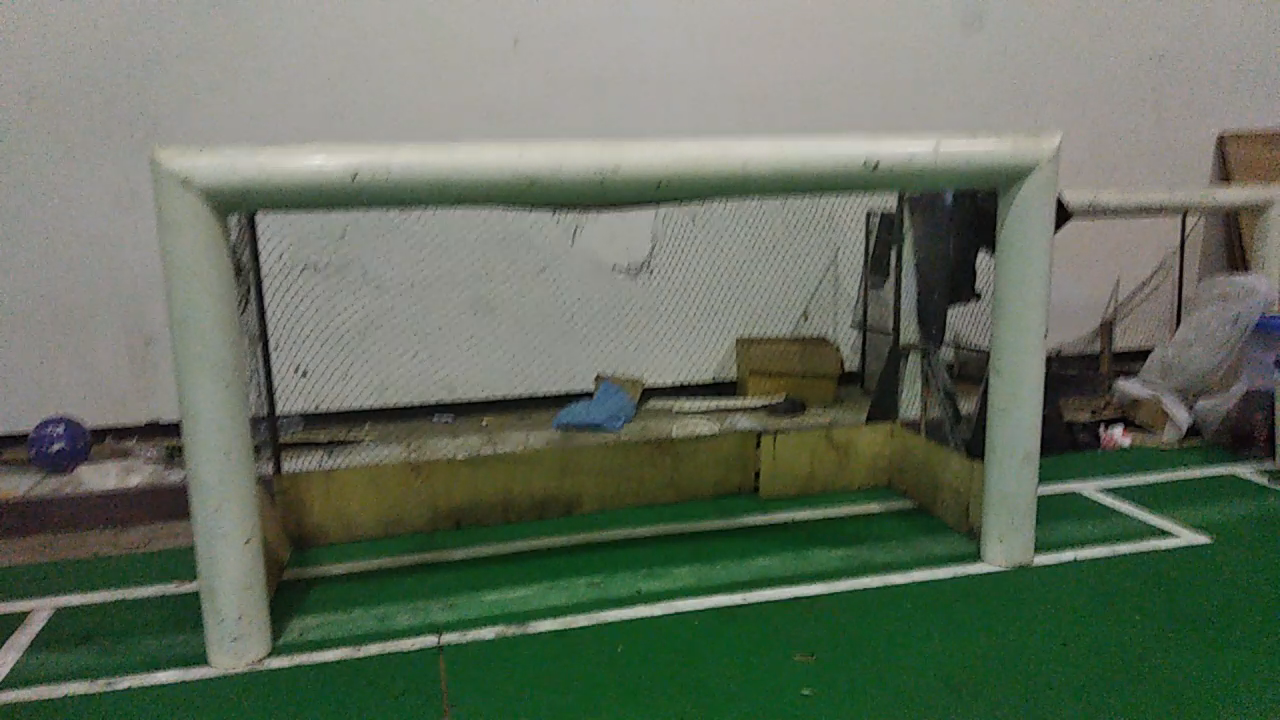gawang: (132, 112, 1083, 686)
